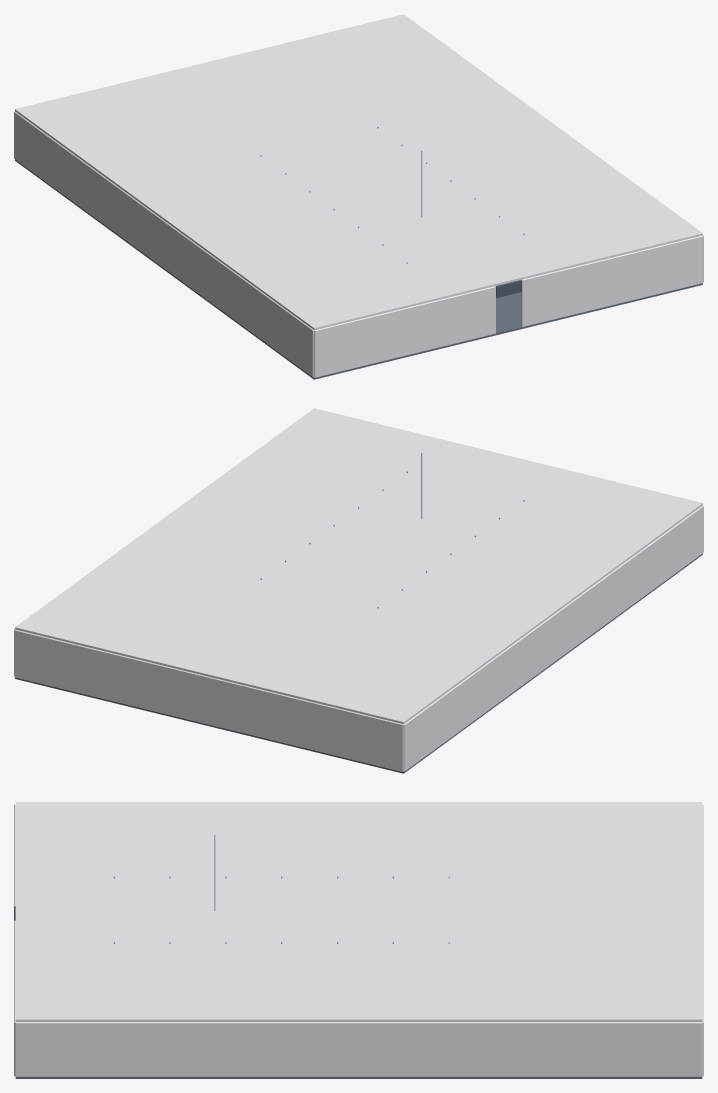
The model's file is main-galley.glb.
The picture shows the model from 3 angles, top to bottom: view 1: azimuth 30°, elevation 25°; view 2: azimuth 150°, elevation 25°; view 3: azimuth 270°, elevation 25°; orthographic projection. The views are drawn at different scales.
Visible parts, largest first — view 1: CM_BULKHEAD, CM_DECK; view 2: CM_BULKHEAD, CM_DECK; view 3: CM_BULKHEAD, CM_DECK.
Part boxes in pixels (x1,y1,x2,y2): CM_BULKHEAD: [14, 14, 703, 377]; CM_DECK: [15, 159, 702, 379]; CM_BULKHEAD: [14, 408, 703, 771]; CM_DECK: [15, 553, 702, 773]; CM_BULKHEAD: [14, 802, 703, 1076]; CM_DECK: [15, 1077, 702, 1078].
Bounding box in the file's own units: 24.14 × 10.2 × 32.14.
